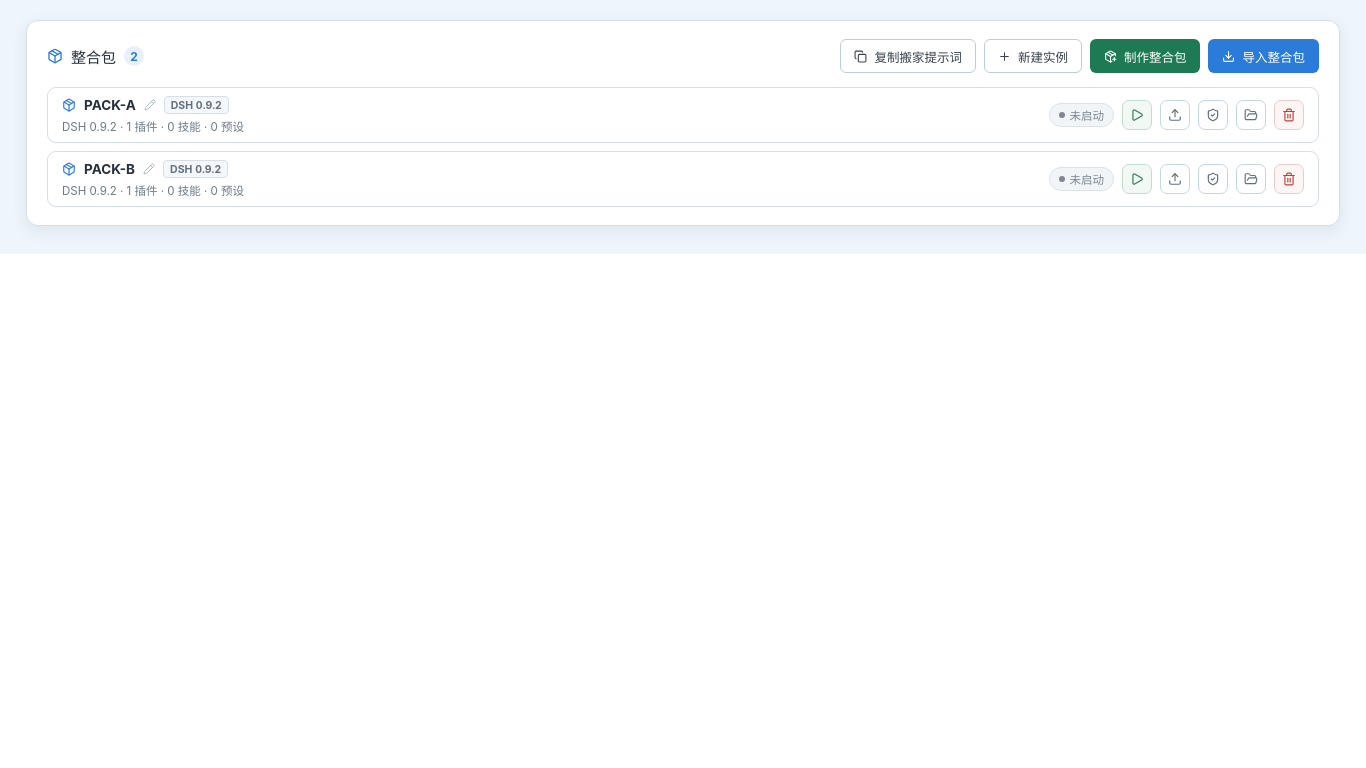
Test case: 制作整合包的两处入口 › 标题栏「制作整合包」打开弹窗，默认选中当前激活的包
This screenshot has width=1366, height=768.
Click the button "制作整合包": (1145, 56) [1090,39,1200,73]
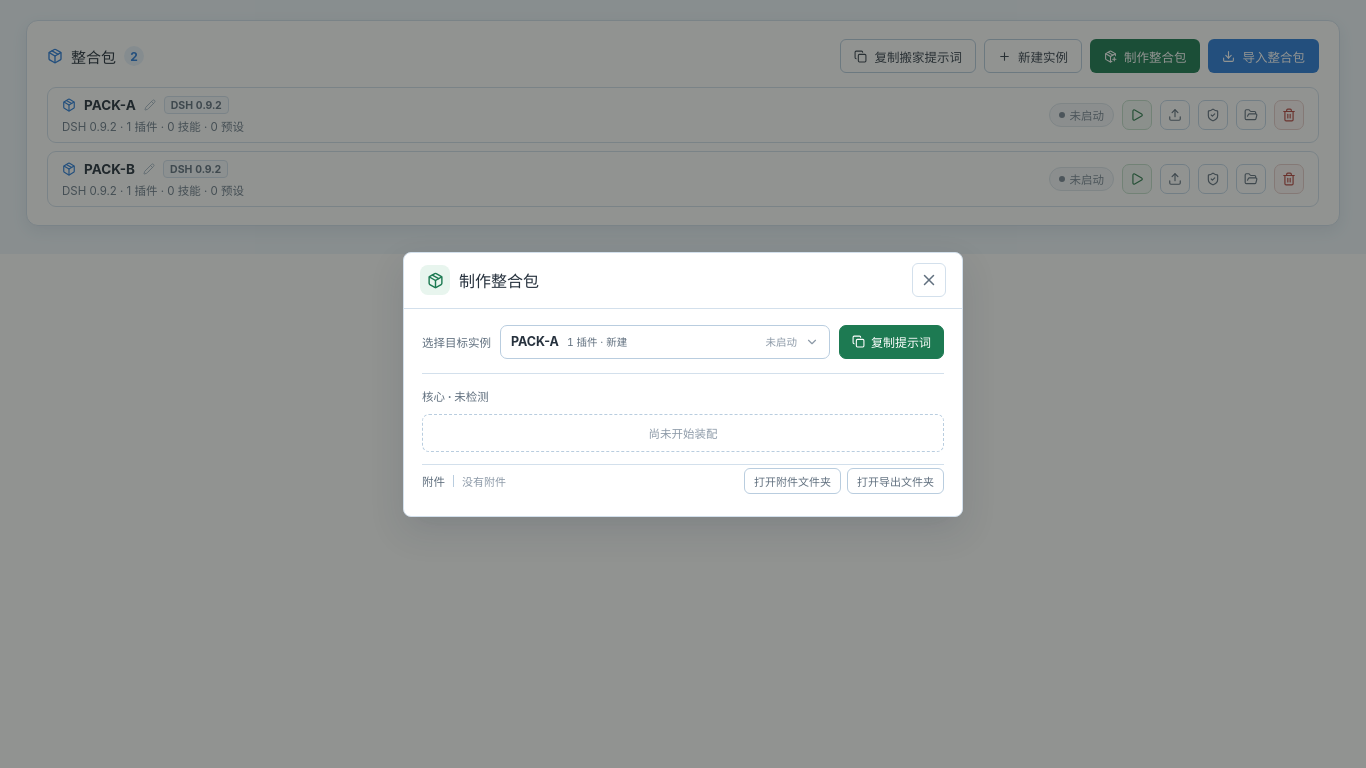
Check: the dialog with class "build-dialog" is shown, box [403,252,963,516]
Check: the heading "制作整合包" is shown, box [459,268,539,292]
Check: the text with class "build-select-name" reads "PACK-A", box [511,334,559,349]
